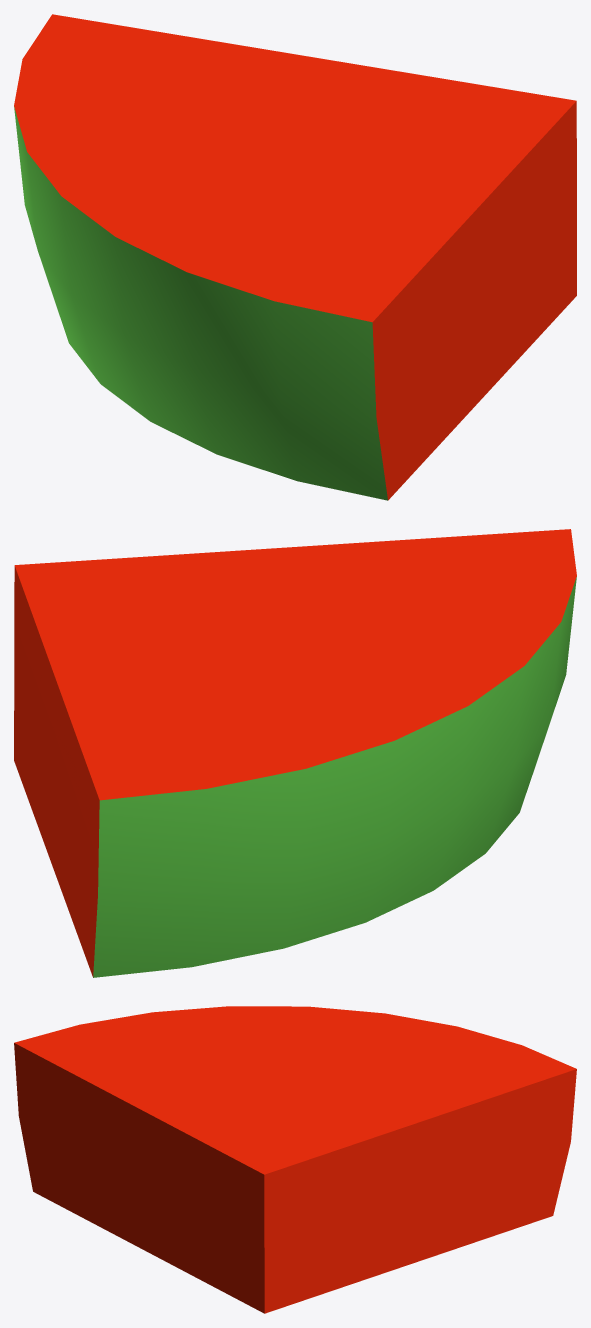
Rendered from 4 watermelon2.fbx.
The picture shows the model from 3 angles, top to bottom: view 1: azimuth 30°, elevation 25°; view 2: azimuth 150°, elevation 25°; view 3: azimuth 270°, elevation 25°; orthographic projection. The views are drawn at different scales.
Parts seen in each view (by area): view 1: 4 watermelon2; view 2: 4 watermelon2; view 3: 4 watermelon2.
Boxes of the visible parts, x1,y1,x2,y2 form: 4 watermelon2: [14, 14, 576, 500]; 4 watermelon2: [14, 529, 576, 977]; 4 watermelon2: [14, 1006, 576, 1313].
Bounding box in the file's own units: 7.54 × 2.89 × 10.63.
